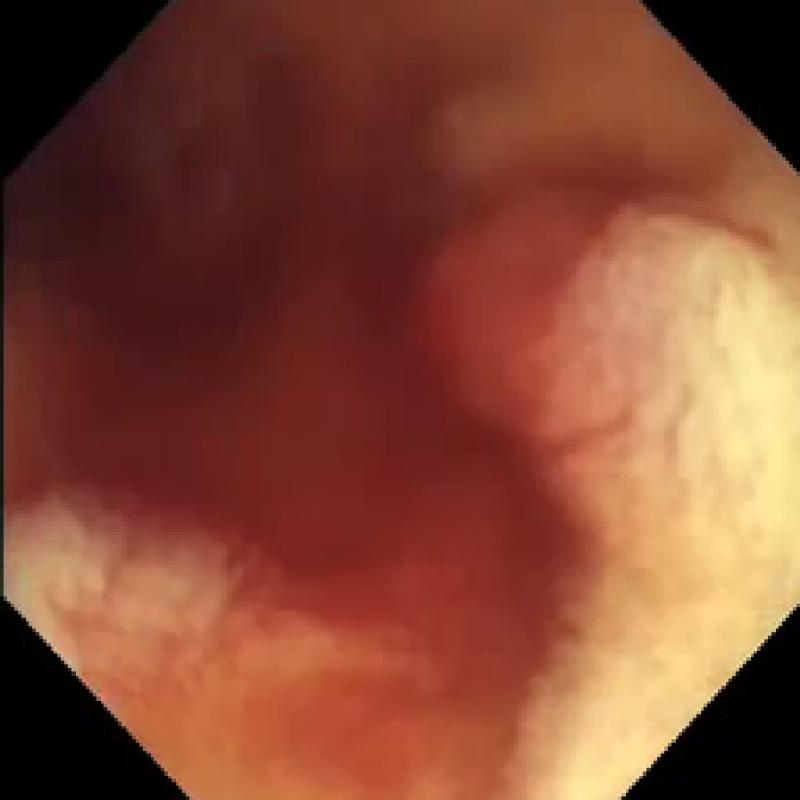bleeding: (0, 0, 800, 754)
